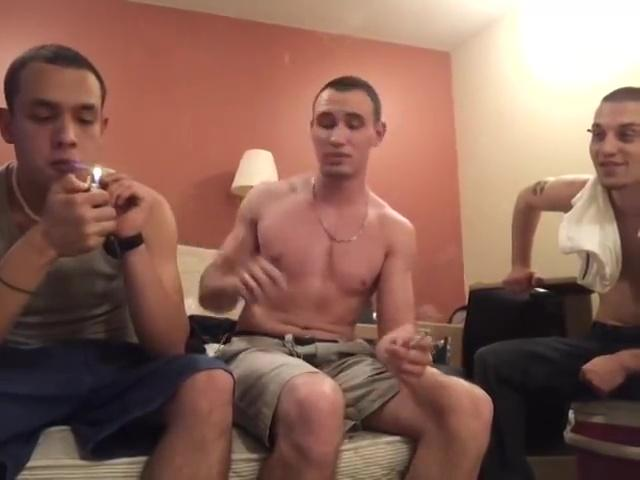cigarette: (68, 159, 102, 176), (408, 328, 433, 351)
